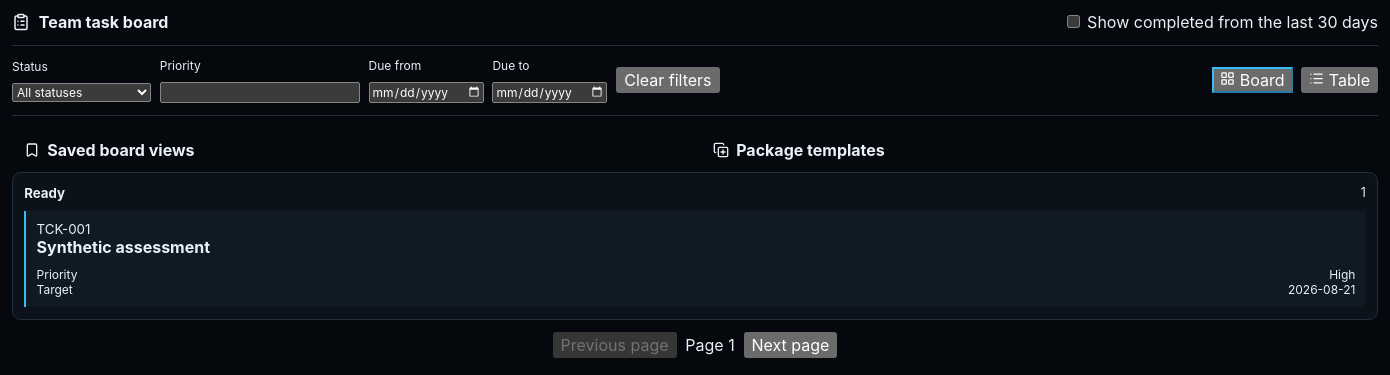
Scenario: every board filter narrows the request and clearing restores the default page
Expected: the heading "Team task board" is shown, x1=39 y1=12 x2=168 y2=32
Select "Blocked" in the dropdown labelled "Status" at {"x": 82, "y": 92}, box x1=12 y1=83 x2=151 y2=102
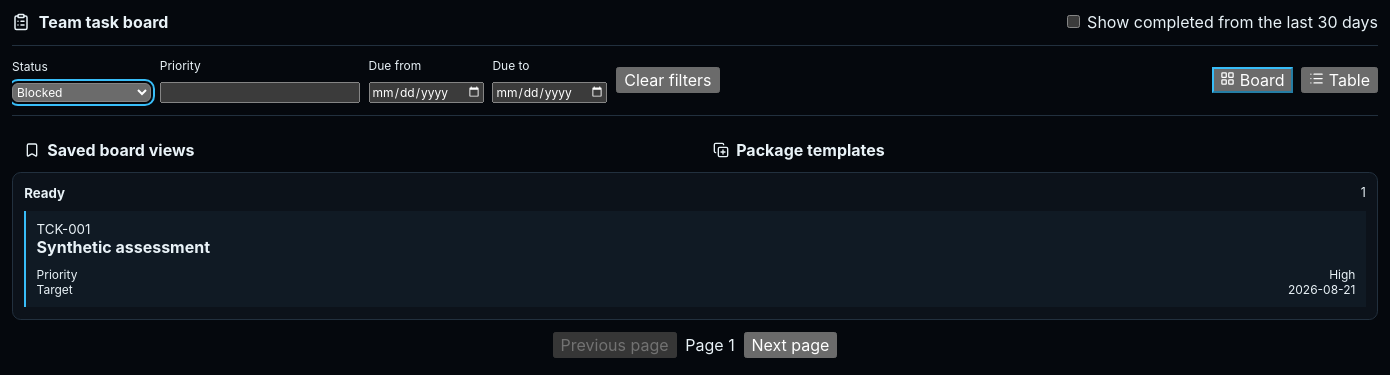
Type "High" into the field labelled "Priority" at {"x": 260, "y": 92}, box x1=160 y1=82 x2=360 y2=103
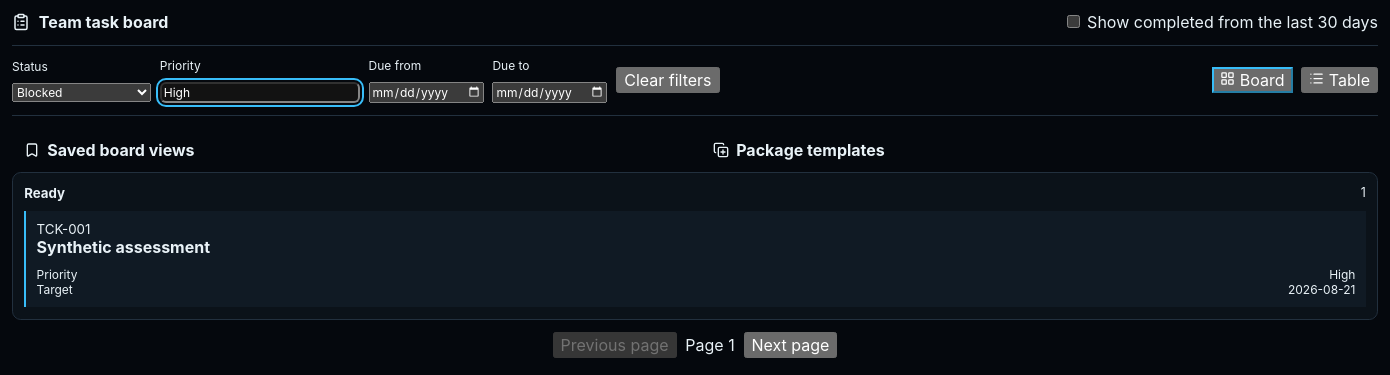
Type "2026-08-01" into the date field labelled "Due from" at {"x": 426, "y": 92}, box x1=369 y1=82 x2=484 y2=103
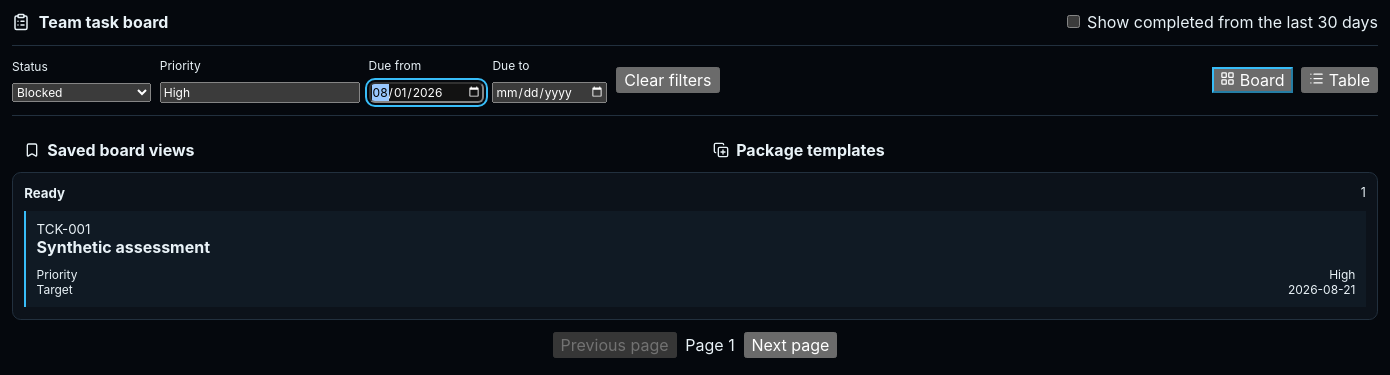
Type "2026-08-31" into the date field labelled "Due to" at {"x": 550, "y": 92}, box x1=492 y1=82 x2=607 y2=103
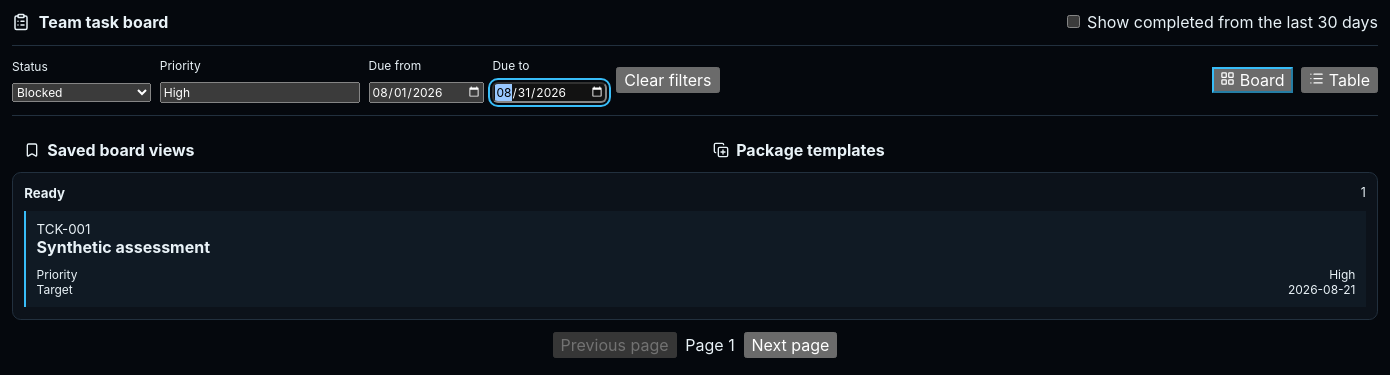
Click the button "Clear filters" at {"x": 668, "y": 80}, box x1=616 y1=67 x2=720 y2=93
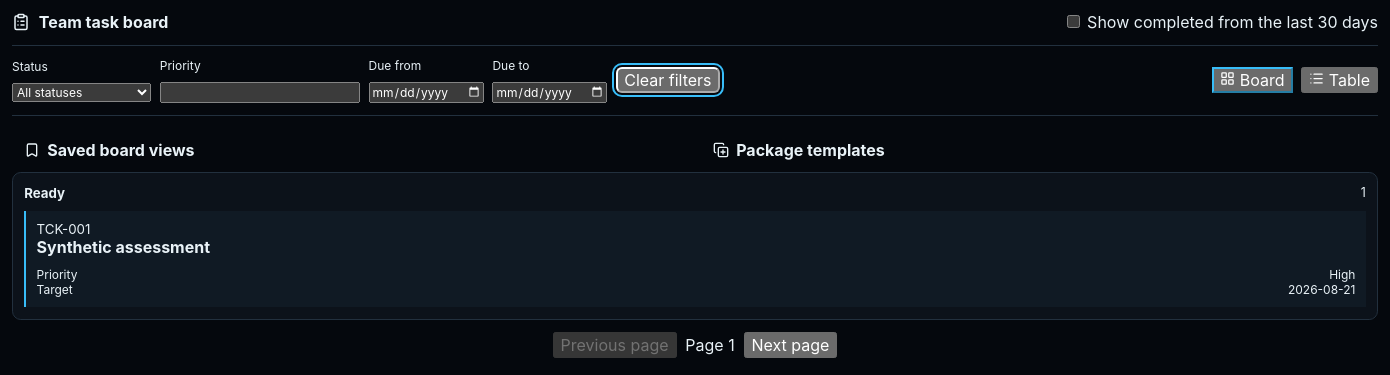
Expected: the field labelled "Priority" is empty, x1=160 y1=82 x2=360 y2=103
Expected: the date field labelled "Due from" is empty, x1=369 y1=82 x2=484 y2=103
Expected: the date field labelled "Due to" is empty, x1=492 y1=82 x2=607 y2=103
